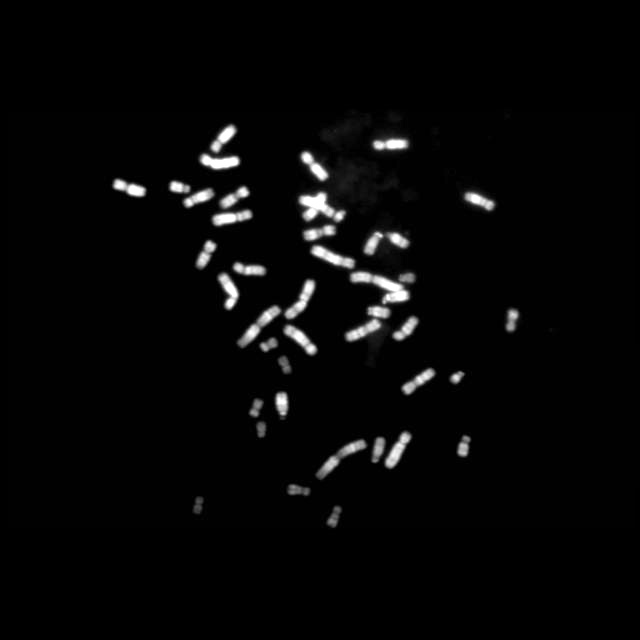chromosome: (316, 440, 366, 480), (236, 306, 279, 346), (285, 279, 315, 319), (283, 324, 317, 356), (350, 273, 404, 293), (384, 432, 412, 468), (312, 245, 354, 269), (344, 318, 382, 342), (300, 150, 328, 182), (402, 368, 436, 394), (218, 272, 238, 310), (302, 192, 326, 222), (300, 196, 334, 217), (213, 209, 252, 227), (210, 125, 235, 153), (200, 153, 240, 170), (220, 187, 250, 209), (393, 316, 419, 340), (183, 188, 214, 208), (196, 240, 217, 268), (114, 178, 146, 196), (464, 192, 496, 210), (234, 260, 266, 276), (304, 225, 336, 241), (374, 139, 408, 151), (365, 232, 383, 254), (382, 290, 410, 304), (386, 232, 408, 248), (372, 436, 384, 464), (275, 393, 289, 415), (327, 506, 341, 528), (249, 399, 263, 418), (288, 484, 310, 496), (369, 306, 391, 318), (506, 309, 518, 331), (278, 356, 292, 374), (458, 436, 470, 456), (261, 338, 277, 352), (171, 181, 189, 193), (450, 370, 464, 384), (398, 273, 416, 283), (334, 210, 346, 222), (193, 498, 202, 514), (256, 422, 266, 436)
